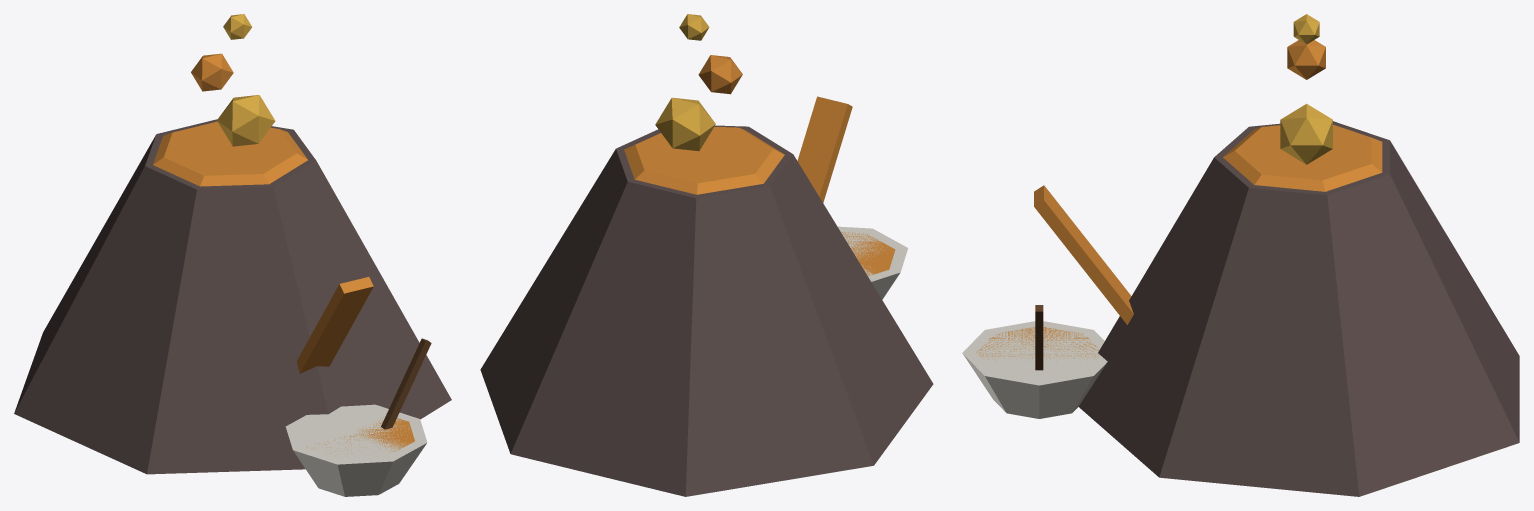
File: soup-volcano.glb
The picture shows the model from 3 angles, left to right: view 1: azimuth 30°, elevation 25°; view 2: azimuth 150°, elevation 25°; view 3: azimuth 270°, elevation 25°; orthographic projection. The views are drawn at different scales.
Visible parts, largest first — view 1: soup_volcano; view 2: soup_volcano; view 3: soup_volcano.
Boxes of the visible parts, x1=… form: soup_volcano: x1=14, y1=14, x2=451, y2=496; soup_volcano: x1=480, y1=14, x2=933, y2=496; soup_volcano: x1=962, y1=14, x2=1519, y2=496.
Size of the model in its own units: 0.4485 by 0.4148 by 0.5422.
